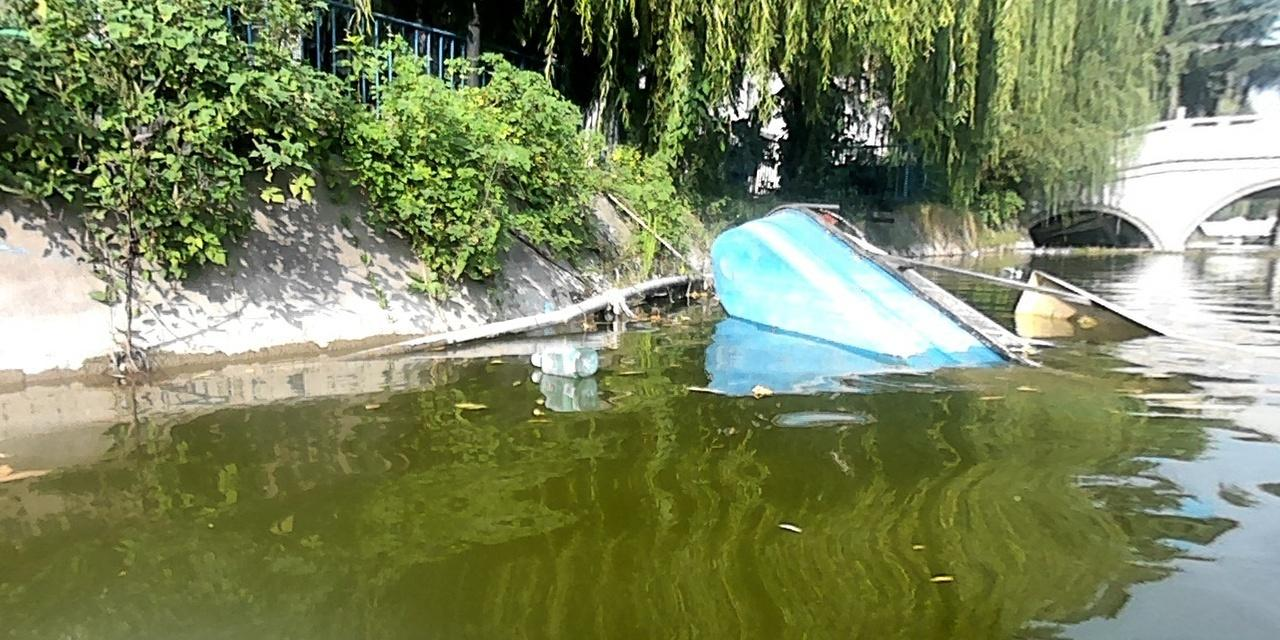bottle: (529, 341, 597, 377)
